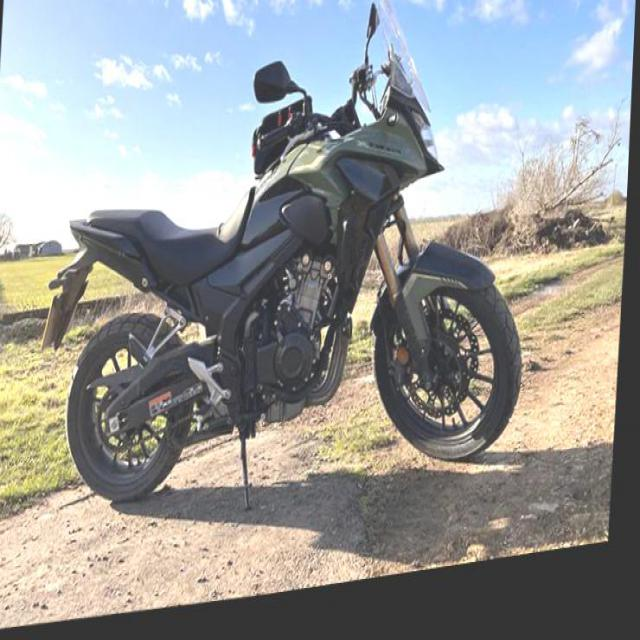CB500X: (60, 0, 546, 529)
